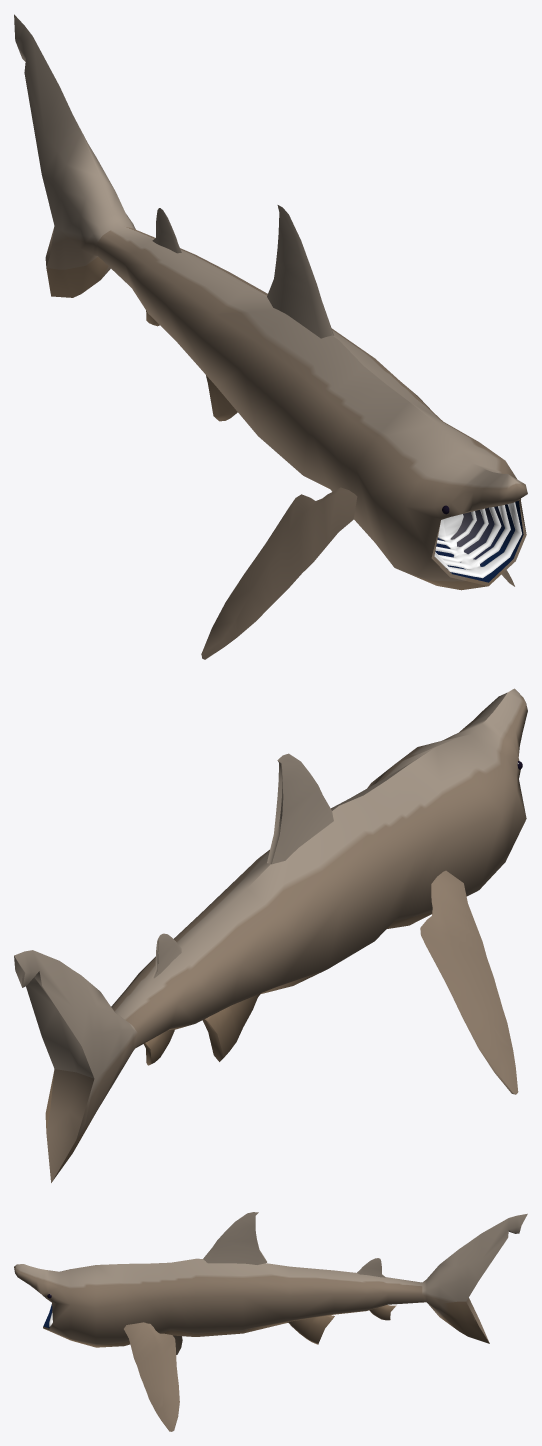
File: Basking Shark.fbx
3 views of the same model, one above another, from view 1: azimuth 30°, elevation 25°; view 2: azimuth 150°, elevation 25°; view 3: azimuth 270°, elevation 25° (orthographic). The views are drawn at different scales.
Parts seen in each view (by area): view 1: Body, Pectoral Fin, Dorsal Fin, Mouth Bone; view 2: Body, Pectoral Fin, Dorsal Fin, Pelvic Fin, Small Dorsal Fin, Anal Fin; view 3: Body, Pectoral Fin, Dorsal Fin, Pelvic Fin, Small Dorsal Fin.
Boxes of the visible parts, x1=… form: Body: x1=14, y1=14, x2=527, y2=590; Pectoral Fin: x1=201, y1=487, x2=514, y2=659; Dorsal Fin: x1=267, y1=205, x2=333, y2=338; Mouth Bone: x1=434, y1=502, x2=521, y2=578; Body: x1=14, y1=688, x2=527, y2=1182; Pectoral Fin: x1=420, y1=870, x2=518, y2=1094; Dorsal Fin: x1=267, y1=753, x2=333, y2=864; Pelvic Fin: x1=202, y1=993, x2=260, y2=1061; Small Dorsal Fin: x1=152, y1=933, x2=181, y2=978; Anal Fin: x1=143, y1=1029, x2=174, y2=1065; Body: x1=14, y1=1213, x2=527, y2=1347; Pectoral Fin: x1=124, y1=1322, x2=182, y2=1431; Dorsal Fin: x1=203, y1=1212, x2=266, y2=1264; Pelvic Fin: x1=287, y1=1315, x2=334, y2=1344; Small Dorsal Fin: x1=357, y1=1258, x2=385, y2=1277.
Size of the model in its own units: 356 by 394 by 1007.
